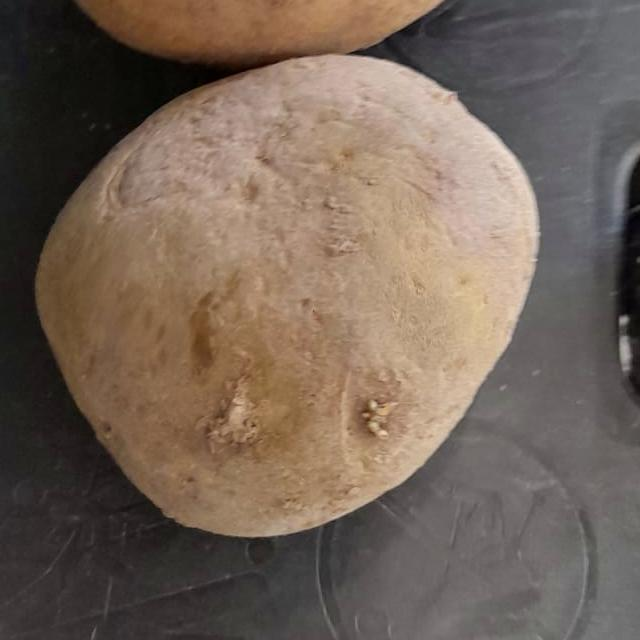potato: (27, 20, 610, 557)
